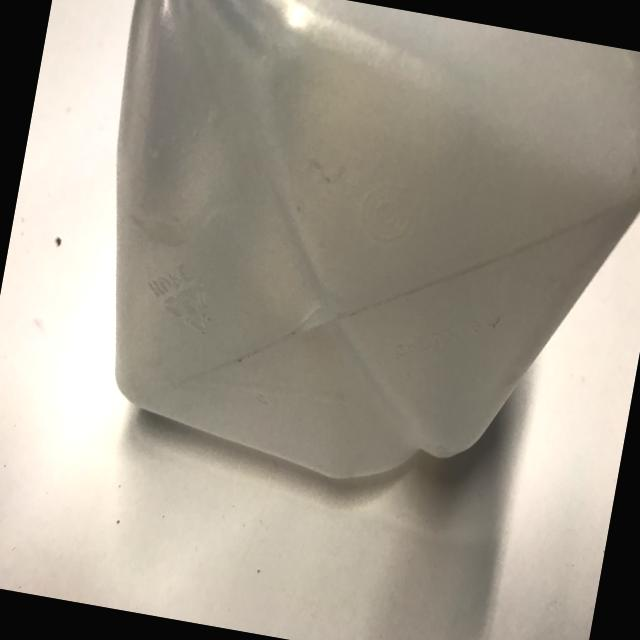Plastic: (31, 0, 640, 583)
